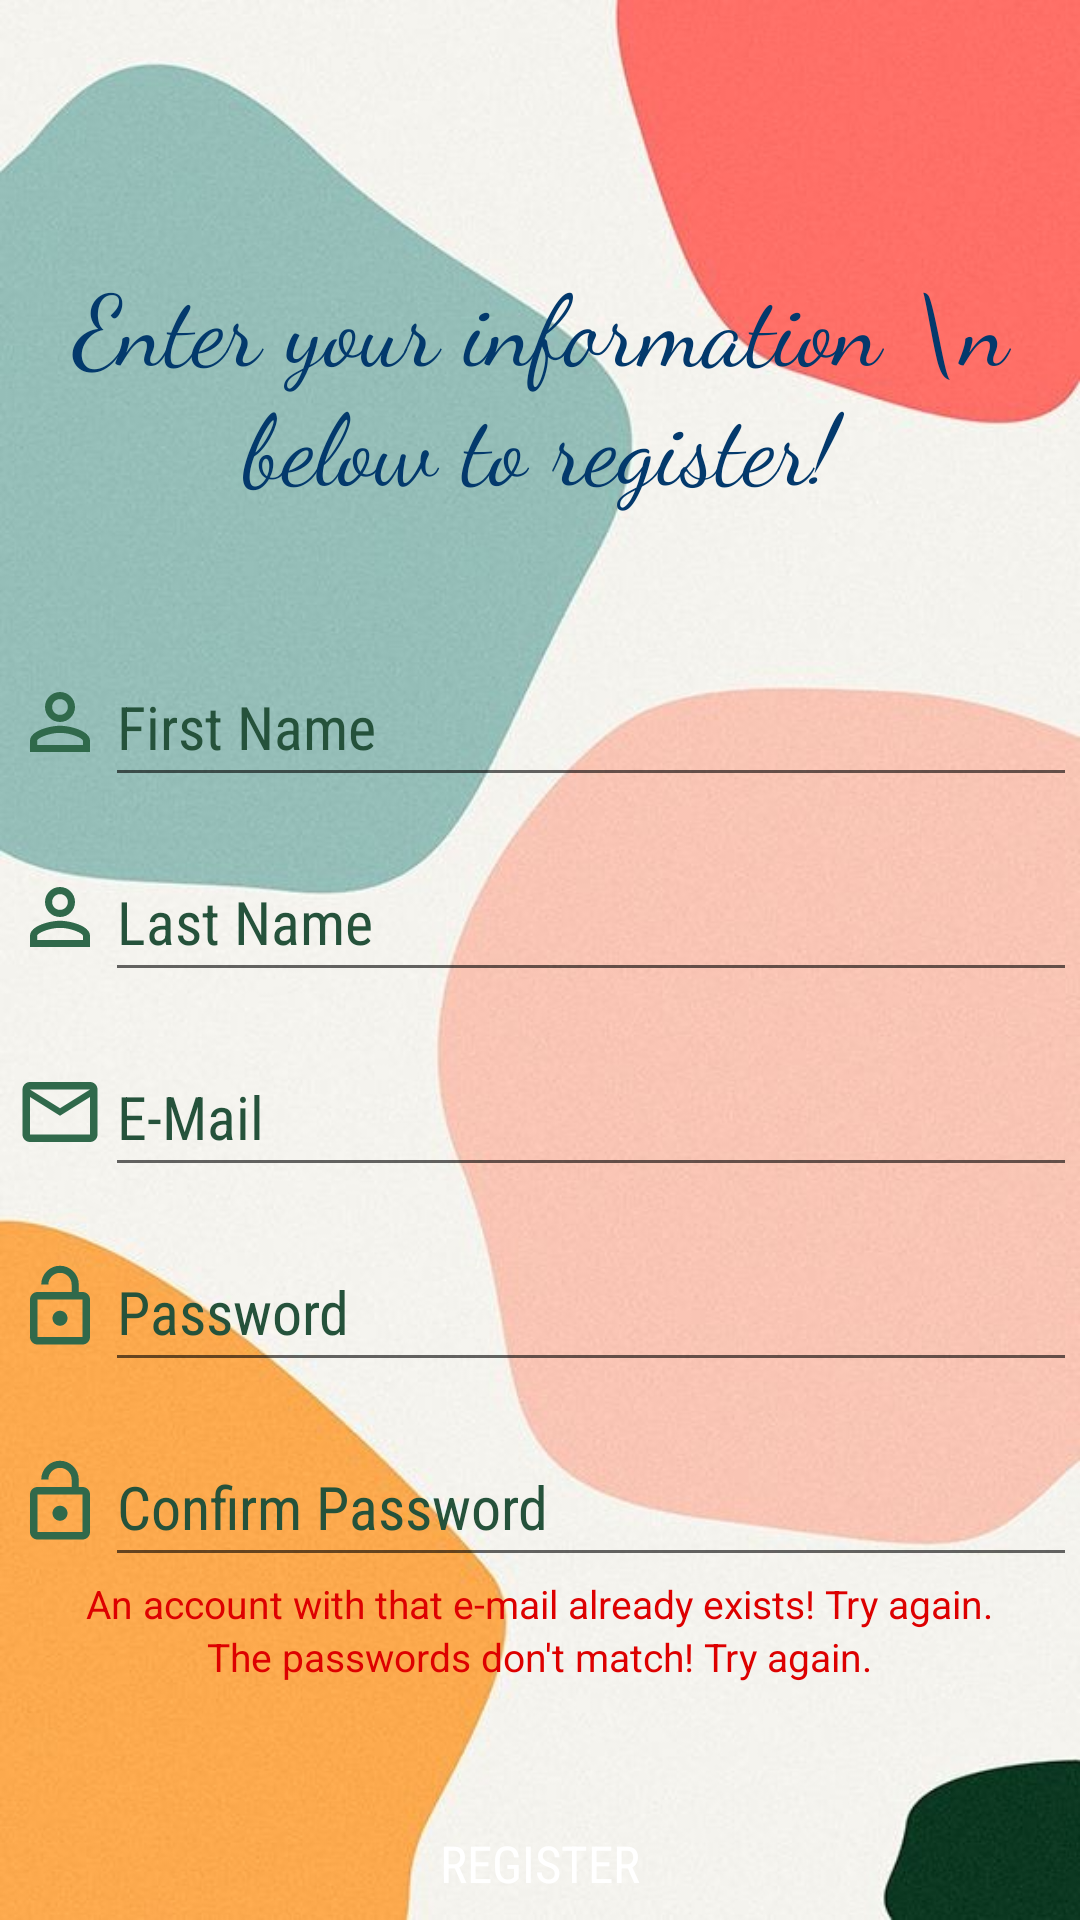

Icon click points for this 1080 x 1920 phone screenshot, format (x,y):
lock open: (60,1305), (60,1500)
